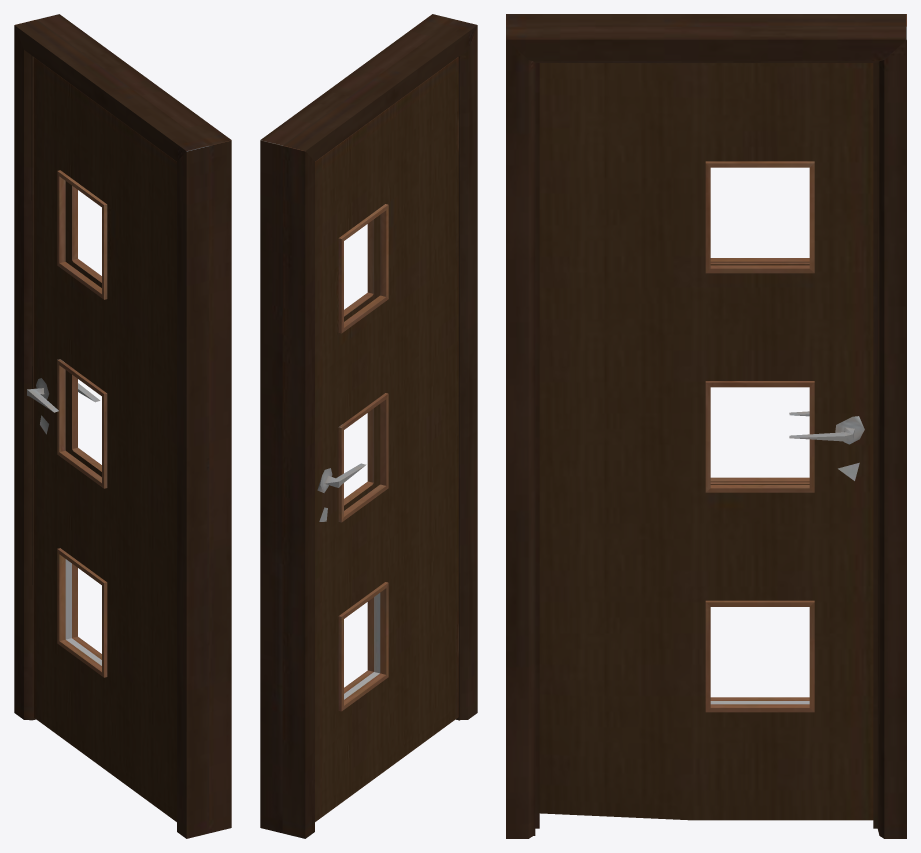
The model's file is Door0026.obj.
3 views of the same model, side by side, from view 1: azimuth 30°, elevation 25°; view 2: azimuth 150°, elevation 25°; view 3: azimuth 270°, elevation 25° (orthographic). The views are drawn at different scales.
Size of the model in its own units: 0.18 by 2.12 by 0.964.
Materials: 1 (1 with a texture image).
